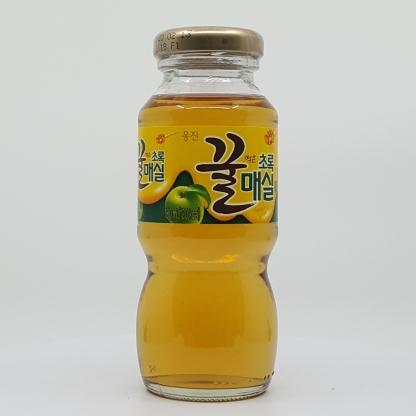-------180ML: (136, 26, 278, 401)
